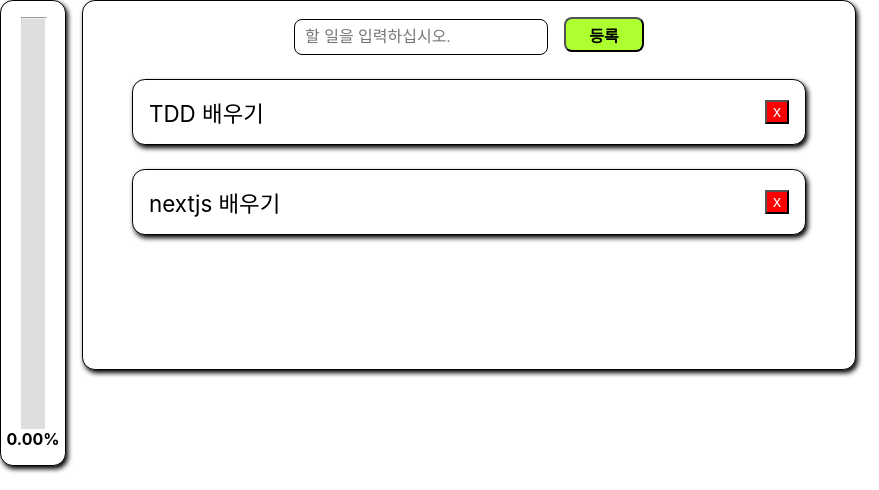
Test: <TodoApp/> › creates new todo
Type "새 항목 추가하기" into the field with placeholder "할 일을 입력하십시오." at {"x": 421, "y": 37}, box [294, 19, 548, 55]
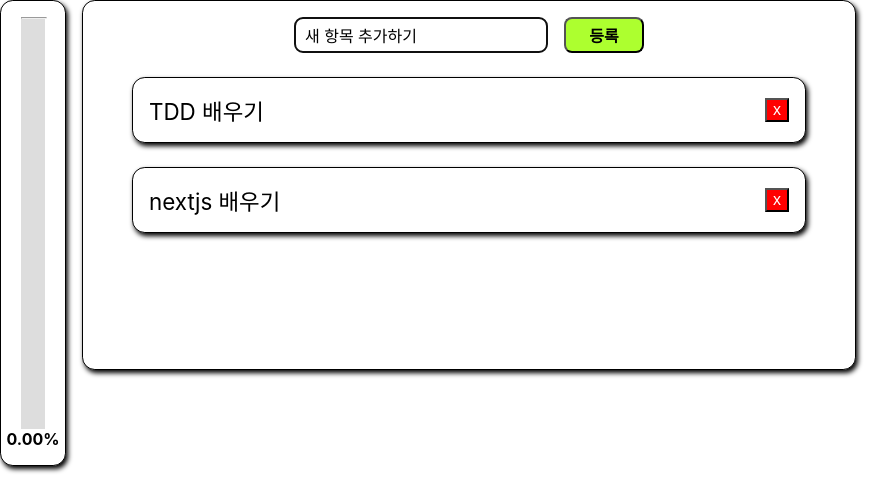
Click the button "등록" at {"x": 604, "y": 35}, box [564, 17, 644, 53]
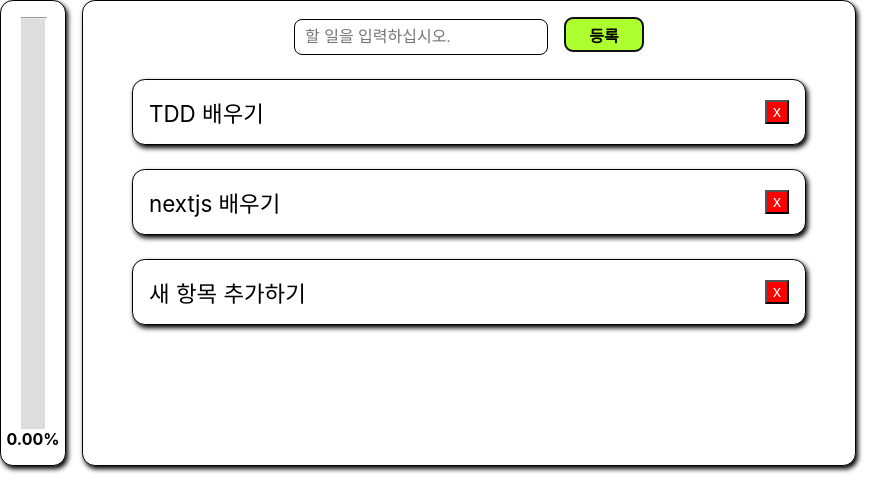
Expected: the text "새 항목 추가하기" is shown, [149, 276, 306, 308]
